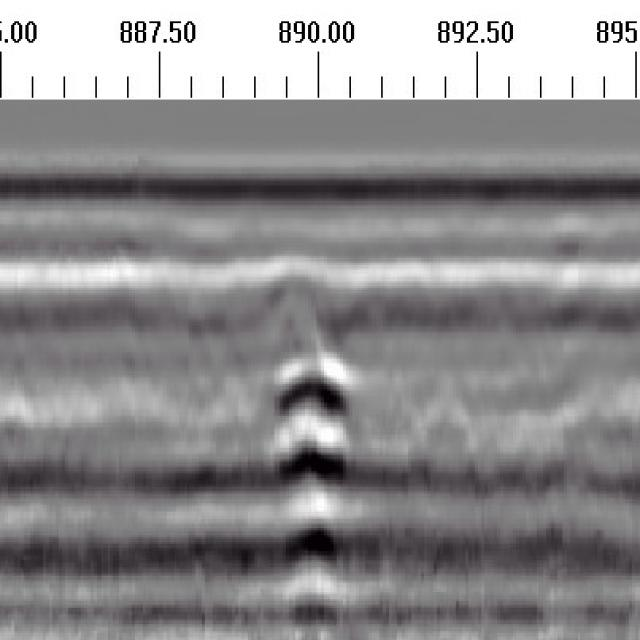crack: (273, 300, 347, 638)
